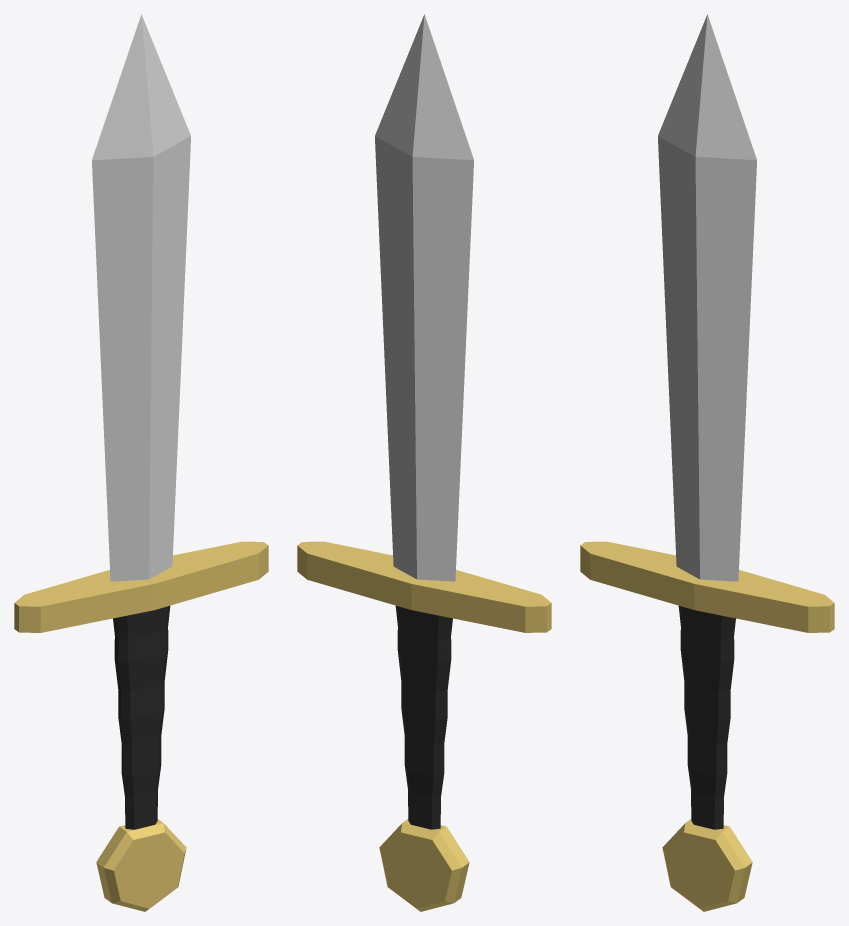
Rendered from Sword.glb.
3 views of the same model, side by side, from view 1: azimuth 30°, elevation 25°; view 2: azimuth 150°, elevation 25°; view 3: azimuth 330°, elevation 25° (orthographic).
Parts seen in each view (by area): view 1: Sword; view 2: Sword; view 3: Sword.
Part boxes in pixels (x1,y1,x2,y2): Sword: [14, 14, 268, 911]; Sword: [297, 14, 551, 911]; Sword: [580, 14, 834, 911].
Size of the model in its own units: 0.4861 by 1.67 by 0.0894.
